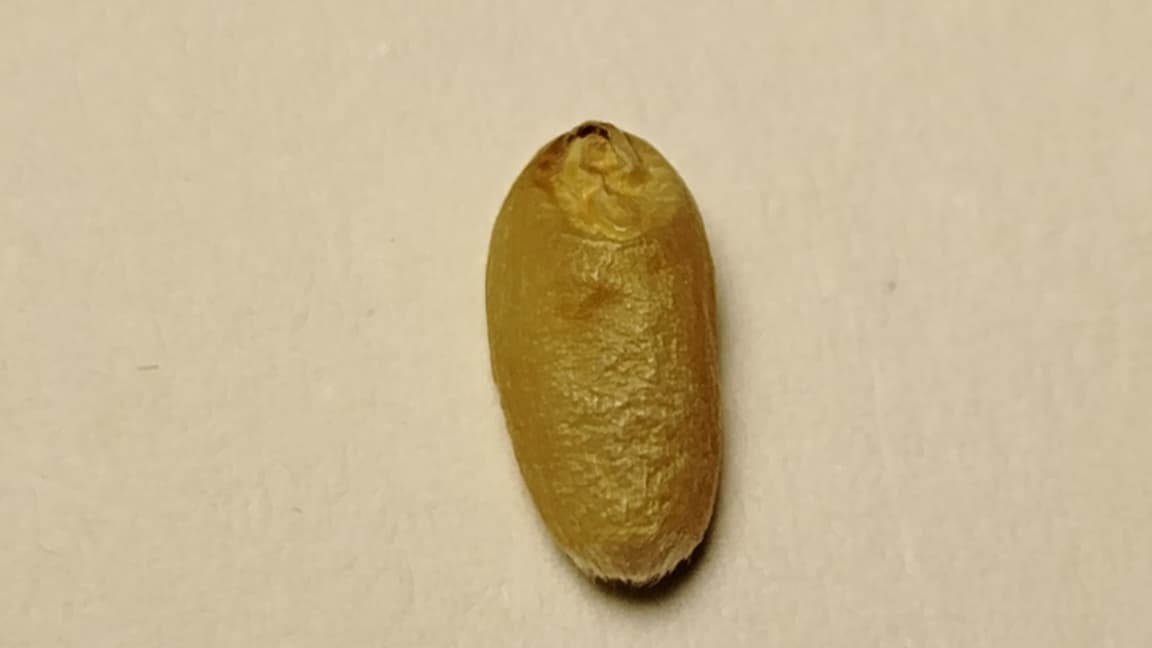healthy: (486, 122, 720, 583)
